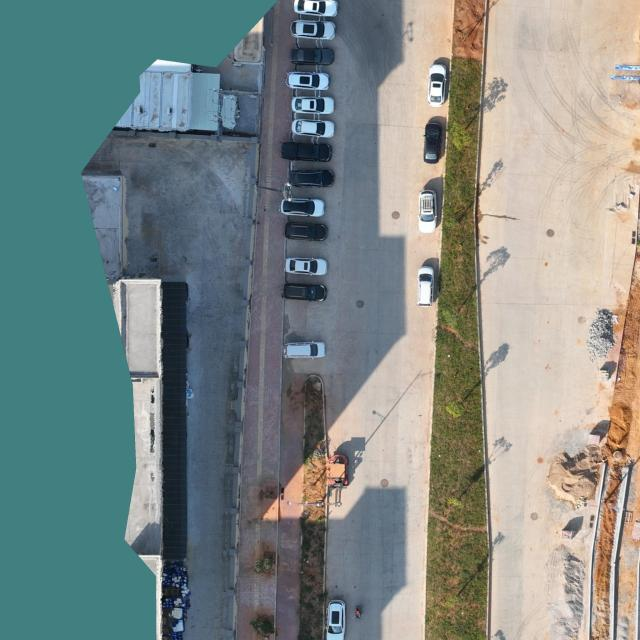Tree: (449, 121, 474, 150), (443, 592, 464, 611), (442, 308, 464, 326), (445, 401, 465, 418), (443, 217, 461, 230), (447, 497, 462, 507)
